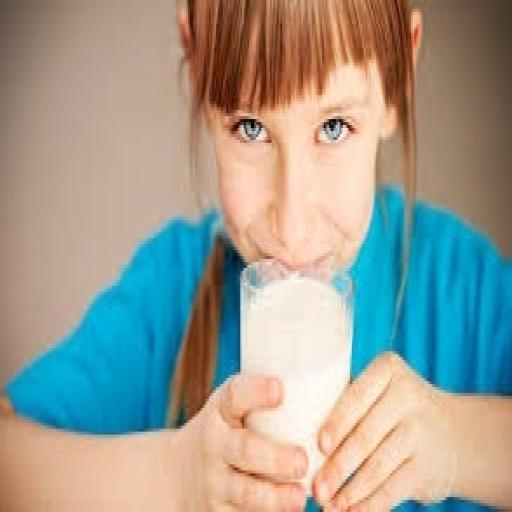drinking: (237, 256, 355, 509)
